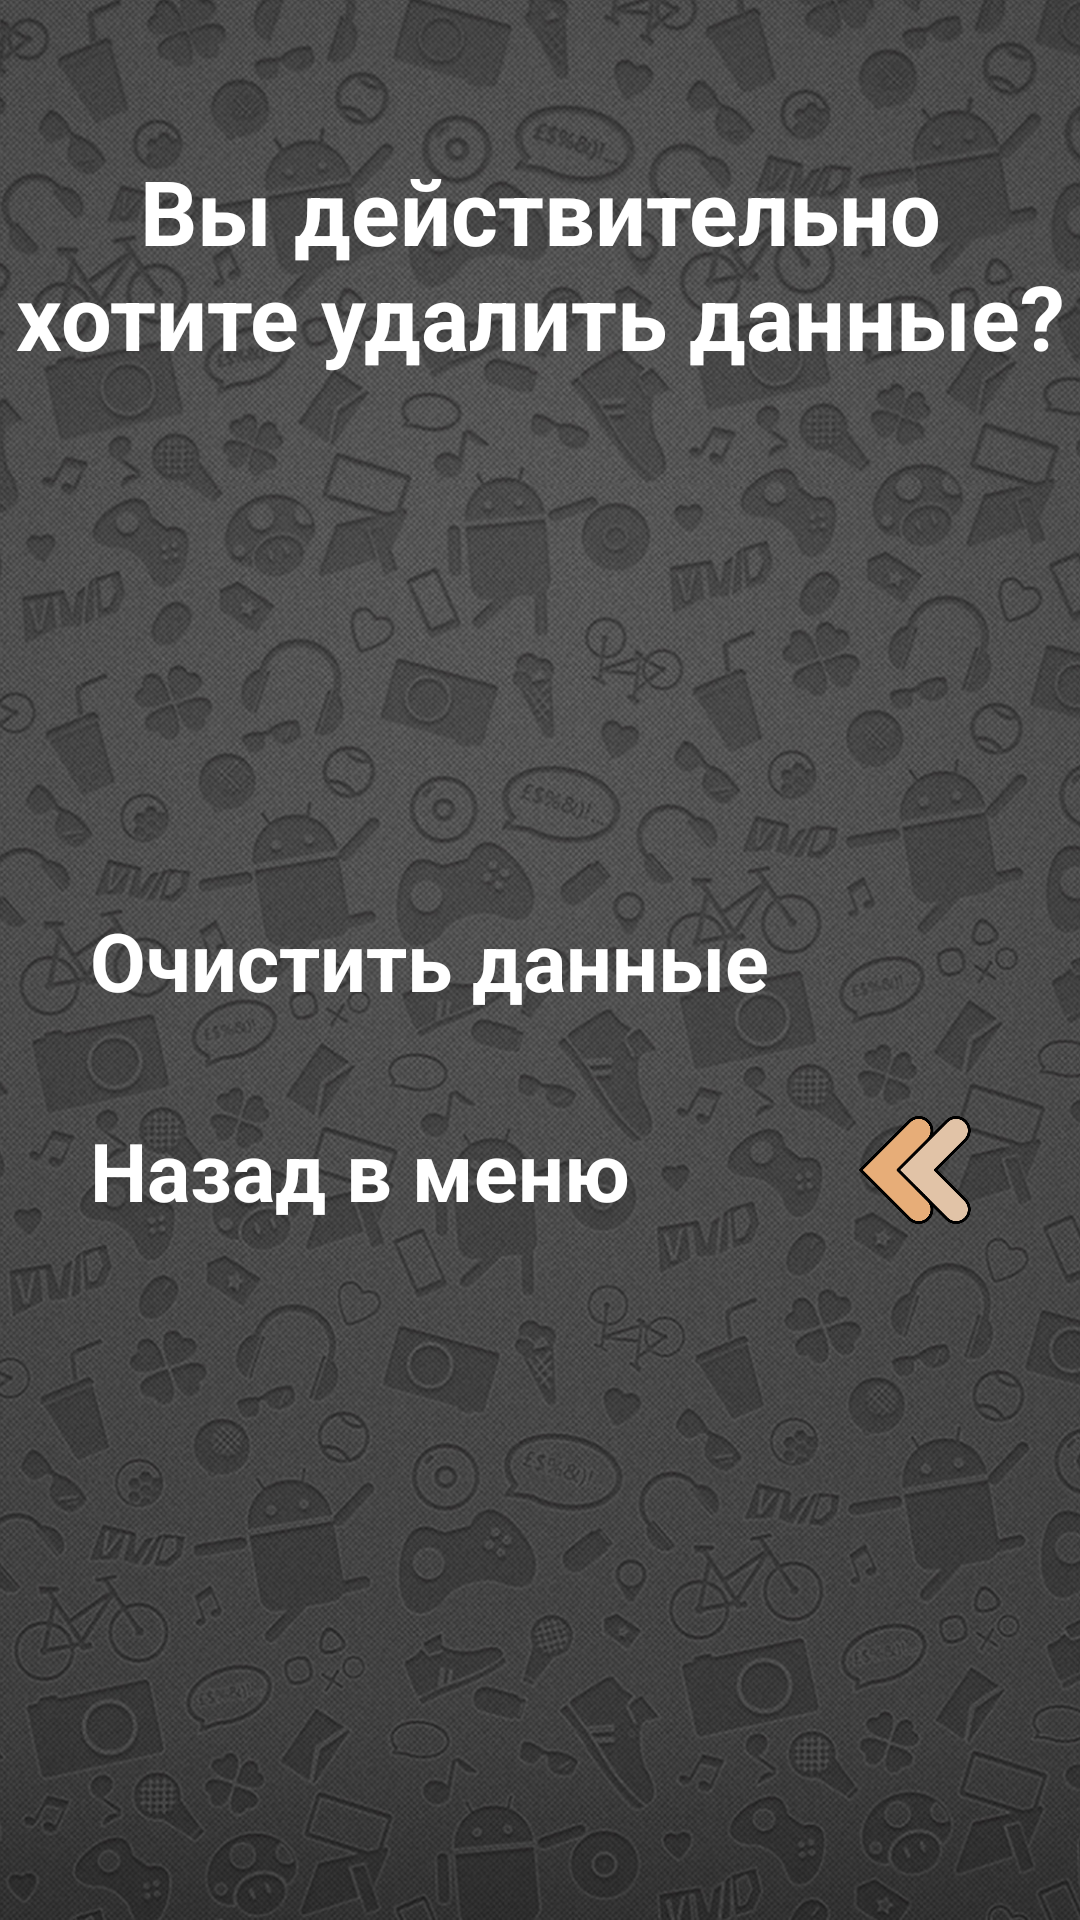

Icons on this 1080px×1920px Android screen, each with its box as bbox=(x1, y1, x2, y2):
back: bbox=(845, 1095, 990, 1245)
